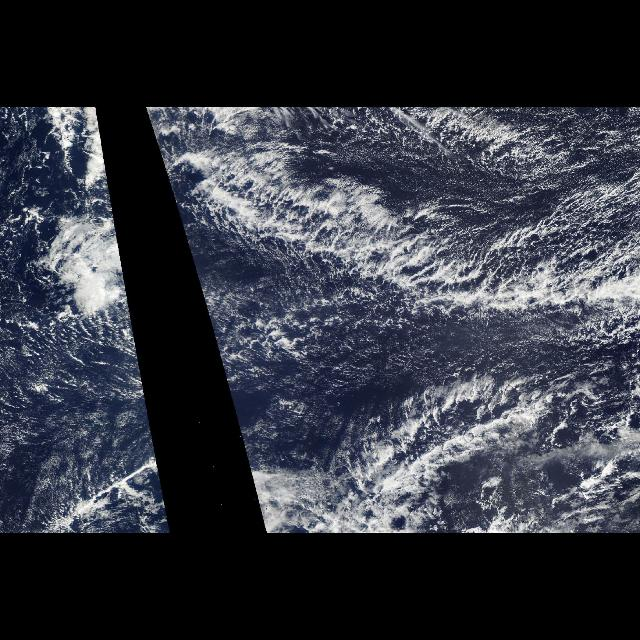Fish: (178, 144, 640, 306)
Gravel: (206, 311, 404, 395)
Sugar: (327, 108, 639, 204)
